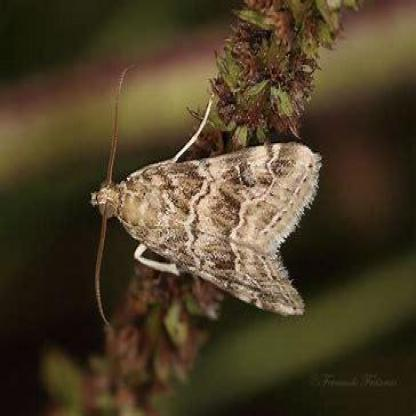Hellula undalis: (90, 66, 327, 335)
